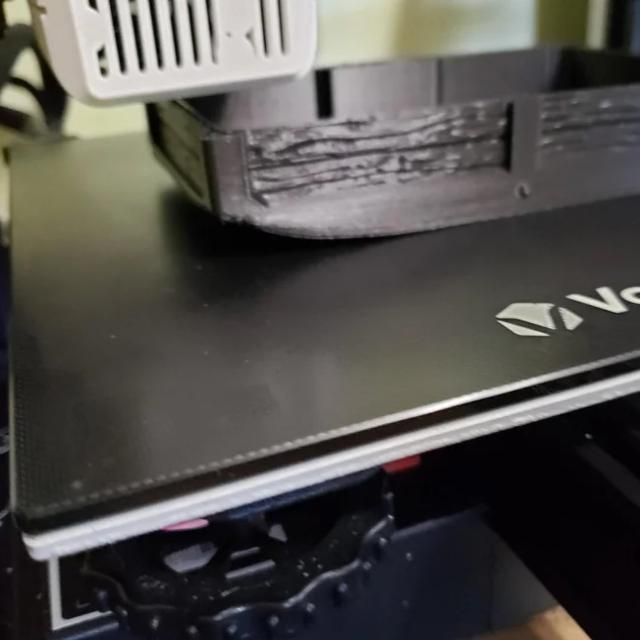Warping: (212, 203, 430, 255)
